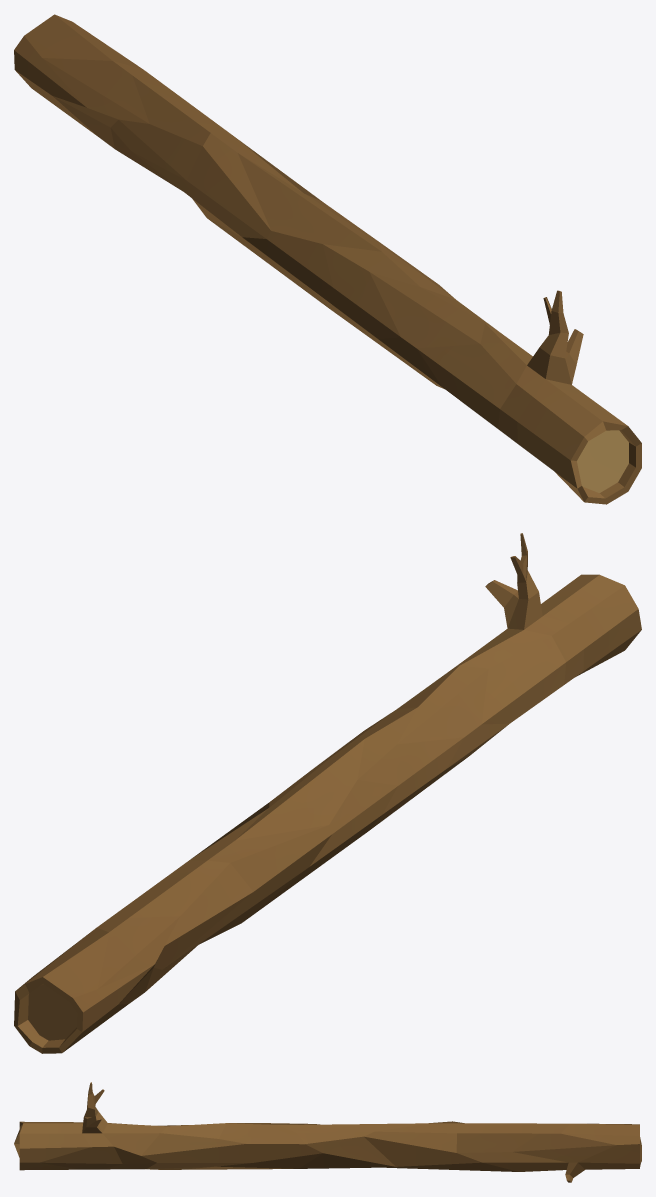
Rendered from log_7.glb.
3 views of the same model, one above another, from view 1: azimuth 30°, elevation 25°; view 2: azimuth 150°, elevation 25°; view 3: azimuth 270°, elevation 25° (orthographic). The views are drawn at different scales.
Parts seen in each view (by area): view 1: log_7; view 2: log_7; view 3: log_7.
Part boxes in pixels (x1=…): log_7: x1=14, y1=14, x2=641, y2=504; log_7: x1=14, y1=533, x2=641, y2=1053; log_7: x1=14, y1=1082, x2=641, y2=1182.
Bounding box in the file's own units: 0.0736 × 0.1461 × 0.8774.
Materials: 1 (1 with a texture image).
